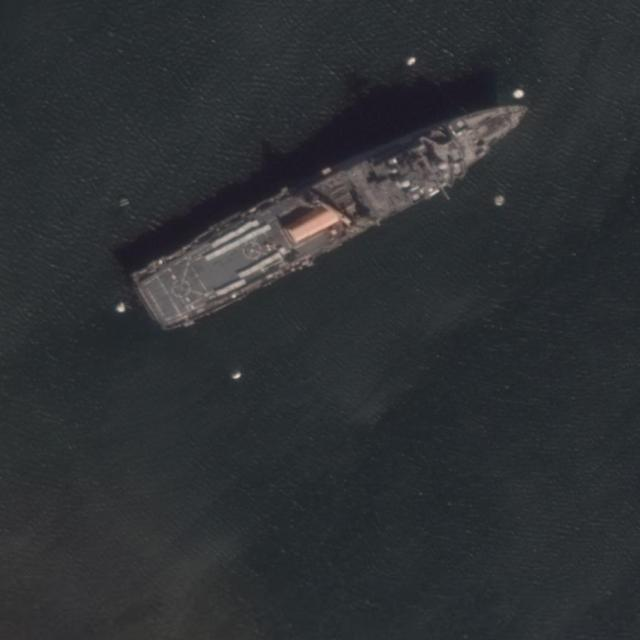Landing: (125, 65, 546, 345)
